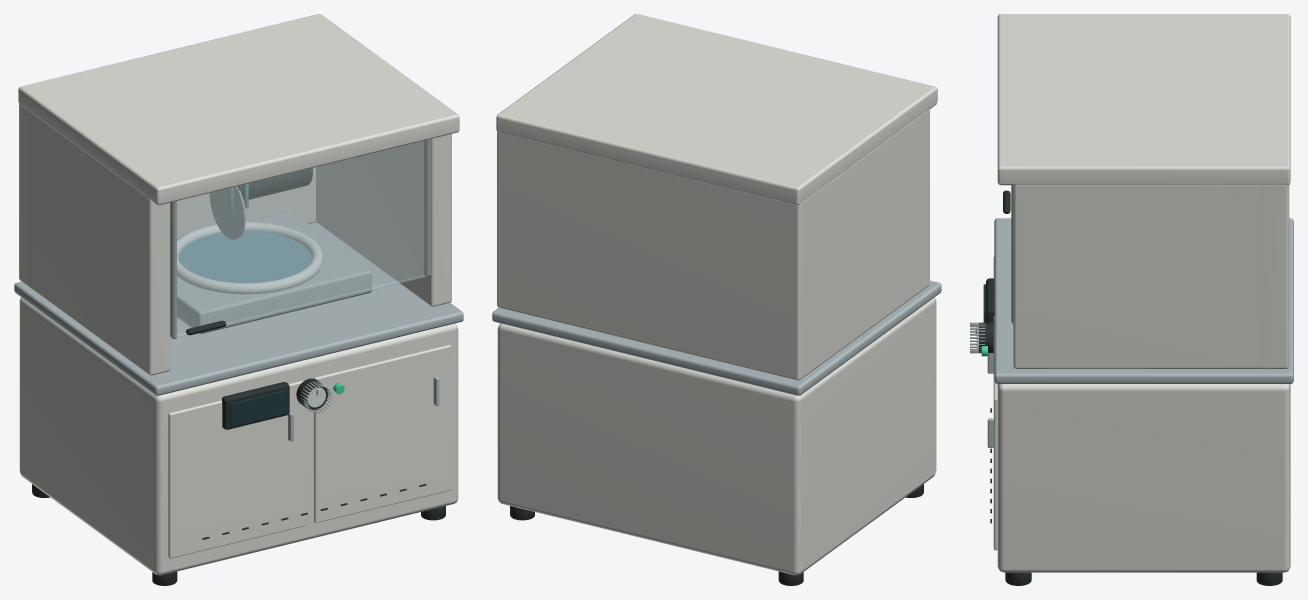
File: saw.glb
3 renders of one model, left to right at view 1: azimuth 30°, elevation 25°; view 2: azimuth 150°, elevation 25°; view 3: azimuth 270°, elevation 25°, orthographic. The views are drawn at different scales.
Visible parts, largest first — view 1: Equipment_saw_Ceramic ivory, Door.014_Quartz inspection, Equipment_saw_Brushed stainless, Carriage.008_Brushed stainless, Carriage.008_Process ceramic, Carriage.008_Machined aluminium, Door.014_Brushed stainless, Equipment_saw_Knurled graphite, Blade_Brushed stainless, LCD.019, Tool.002_Knurled graphite; view 2: Equipment_saw_Ceramic ivory, Equipment_saw_Brushed stainless, Equipment_saw_Knurled graphite; view 3: Equipment_saw_Ceramic ivory, Equipment_saw_Brushed stainless, Equipment_saw_Knurled graphite.
Boxes of the visible parts, x1,y1,x2,y2 form: Equipment_saw_Ceramic ivory: [18, 14, 459, 575]; Door.014_Quartz inspection: [177, 140, 425, 337]; Equipment_saw_Brushed stainless: [14, 222, 463, 441]; Carriage.008_Brushed stainless: [177, 212, 371, 333]; Carriage.008_Process ceramic: [179, 231, 311, 283]; Carriage.008_Machined aluminium: [177, 222, 323, 294]; Door.014_Brushed stainless: [170, 139, 430, 338]; Equipment_saw_Knurled graphite: [32, 382, 445, 585]; Blade_Brushed stainless: [209, 186, 245, 239]; LCD.019: [230, 390, 287, 426]; Tool.002_Knurled graphite: [237, 168, 312, 200]; Equipment_saw_Ceramic ivory: [496, 14, 937, 575]; Equipment_saw_Brushed stainless: [492, 280, 941, 395]; Equipment_saw_Knurled graphite: [510, 484, 923, 585]; Equipment_saw_Ceramic ivory: [993, 14, 1290, 572]; Equipment_saw_Brushed stainless: [970, 218, 1293, 447]; Equipment_saw_Knurled graphite: [975, 278, 1282, 585].
Bounding box in the file's own units: 1.42 × 1.78 × 1.24.
